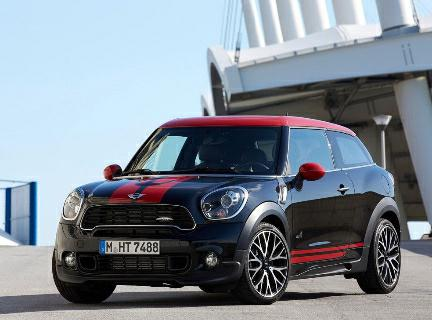MINI-JCWPACEMAN: (47, 92, 427, 308)
